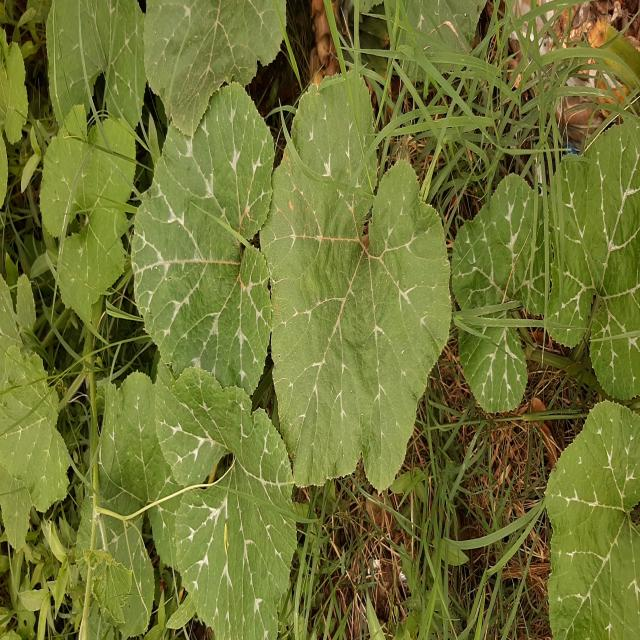pumpkin: (260, 73, 451, 490)
